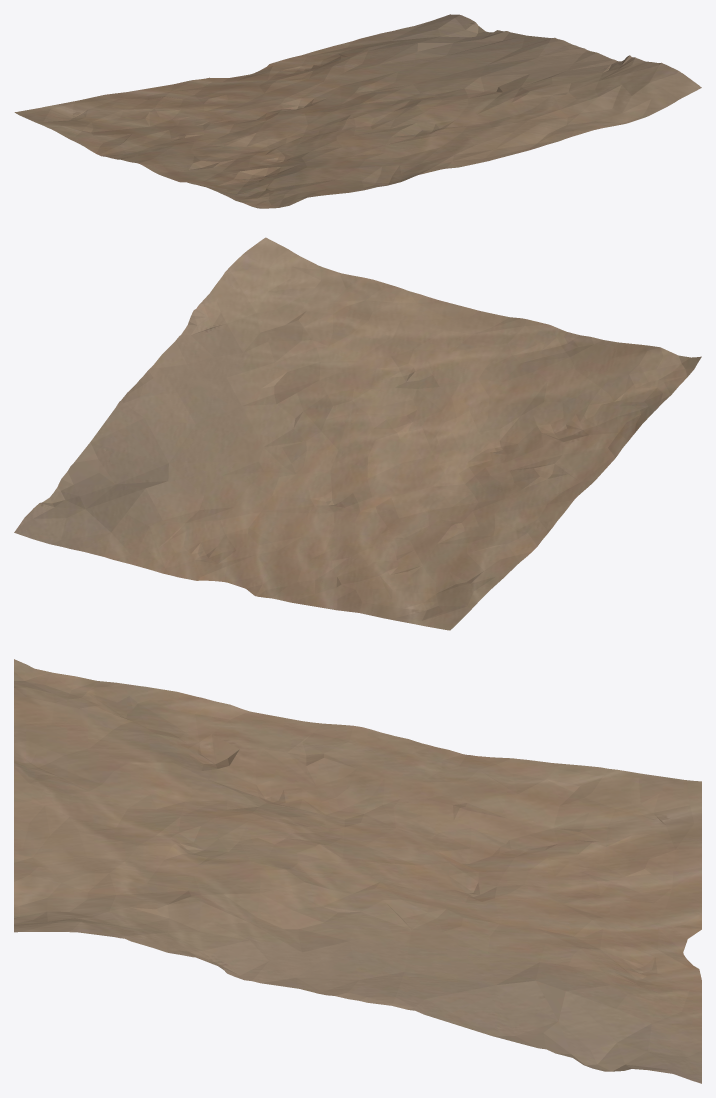
3 renders of one model, top to bottom at view 1: azimuth 30°, elevation 25°; view 2: azimuth 150°, elevation 25°; view 3: azimuth 270°, elevation 25°, orthographic. The views are drawn at different scales.
Bounding box in the file's own units: 1.04 × 0.2652 × 1.04.
Materials: 2 (2 with a texture image).
